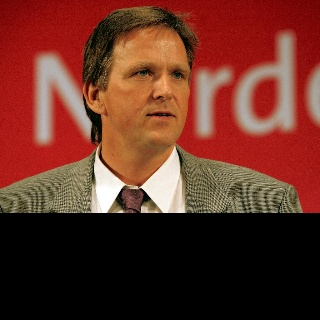without_mask: (102, 31, 191, 150)
